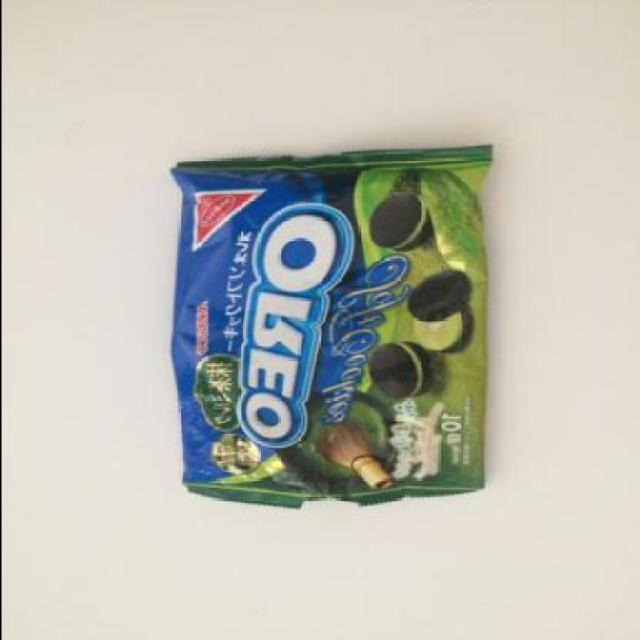PLASTIC: (172, 145, 493, 508)
